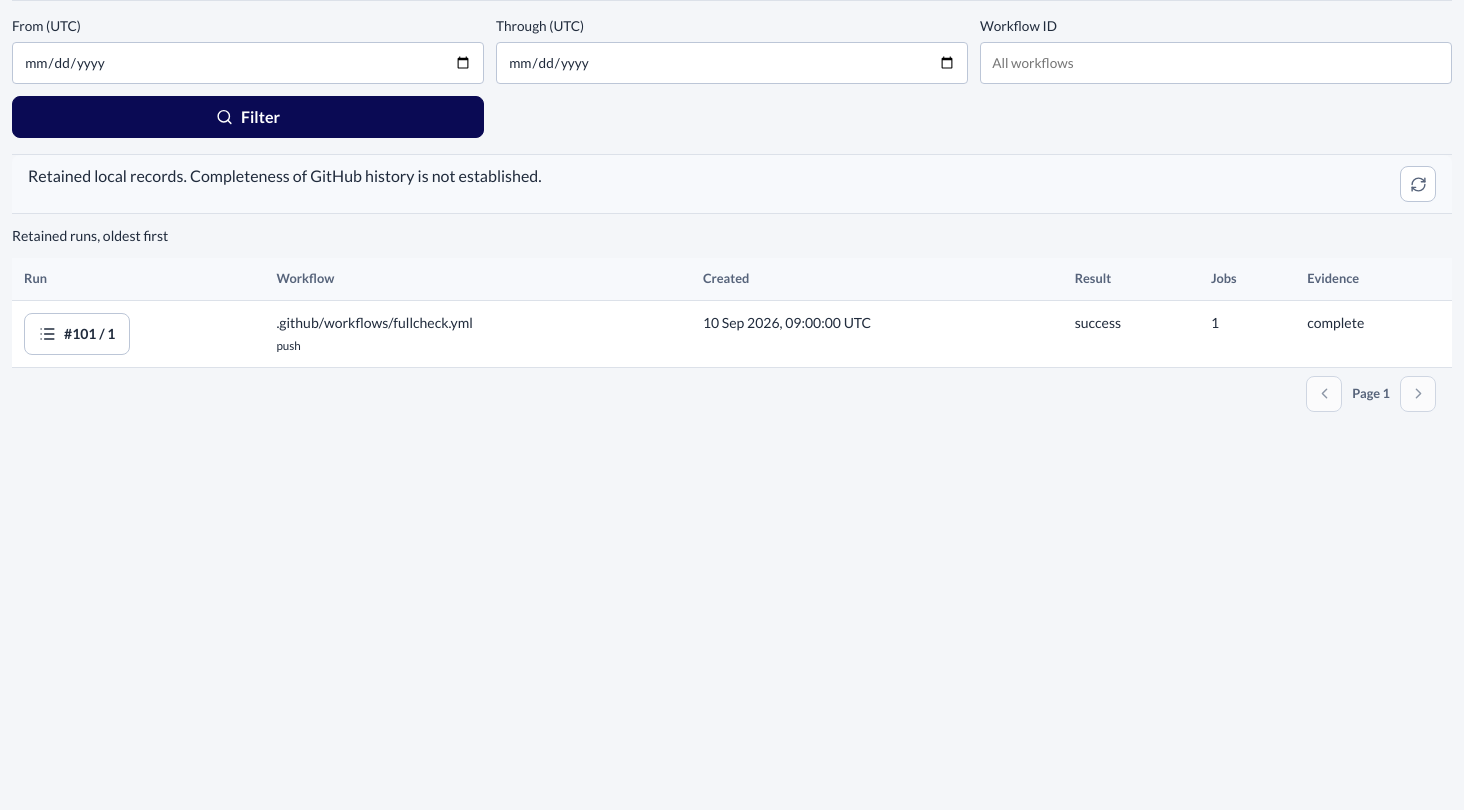
Scenario: selected attempt shows honest nullable retained detail
This screenshot has width=1464, height=810.
Click the button "#101 / 1". click: (77, 334)
box: [24,313,130,355]
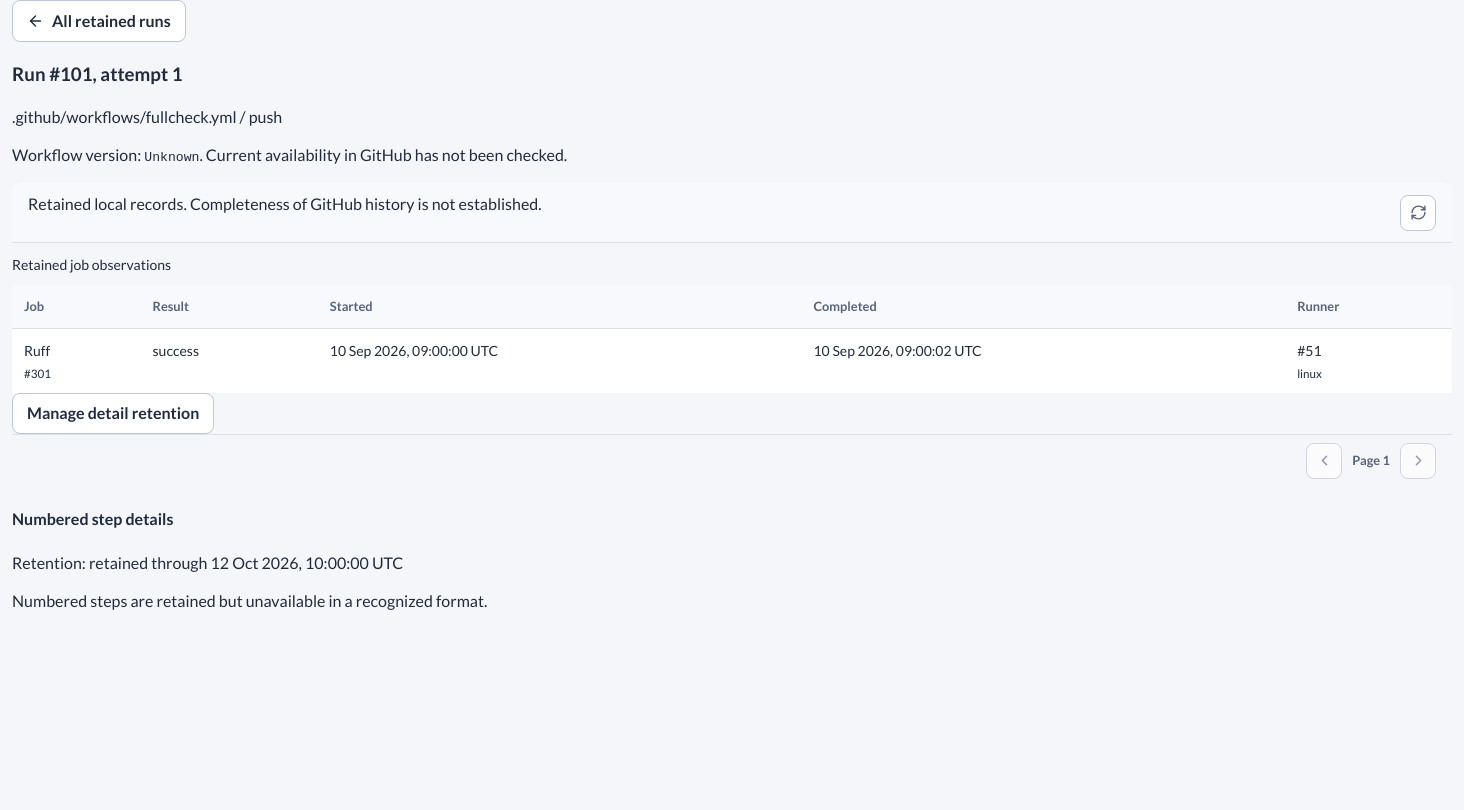
Expected: the text "Numbered steps are retained but unavailable in a recognized format." is shown, [12,591,487,610]
